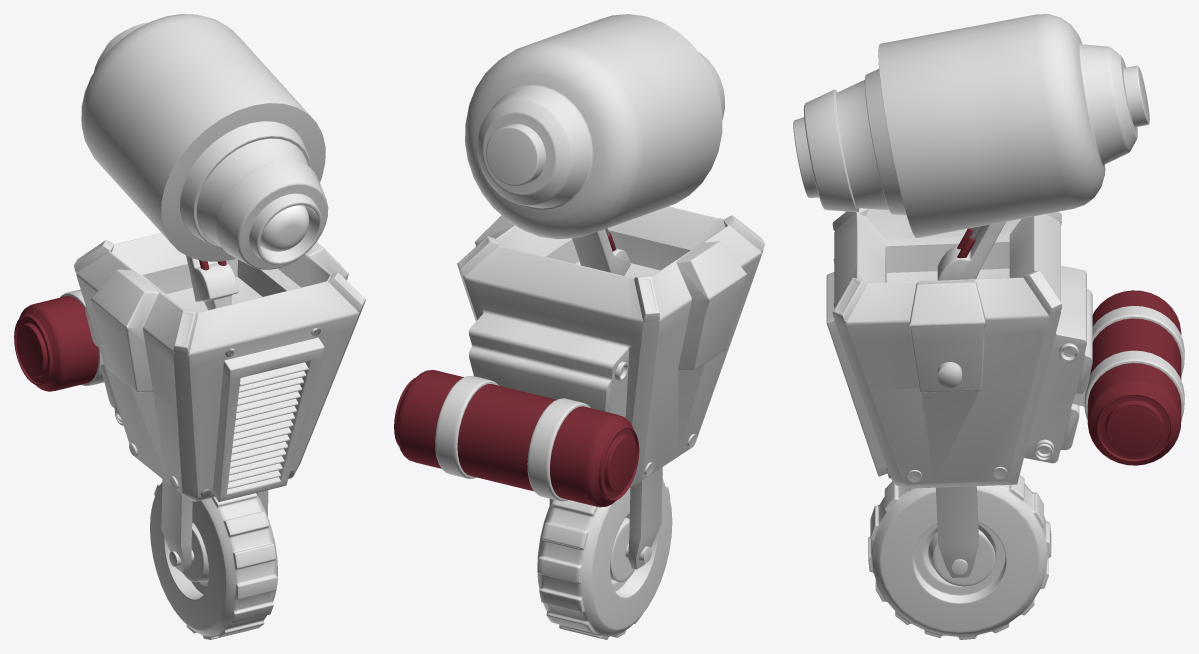
The model's file is Wheel Robot v3.fbx.
3 renders of one model, left to right at view 1: azimuth 30°, elevation 25°; view 2: azimuth 150°, elevation 25°; view 3: azimuth 270°, elevation 25°, orthographic. The views are drawn at different scales.
Visible parts, largest first — view 1: Body, Head, Tire, Gas tAnk, Ventilations, Neck; view 2: Body, Head, Gas tAnk, Tire, Neck; view 3: Body, Head, Tire, Gas tAnk, Neck, Hand_Axel.
Part boxes in pixels (x1,y1,x2,y2): Body: (74,233,365,573); Head: (81,14,328,269); Tire: (150,482,277,639); Gas tAnk: (14,289,104,391); Ventilations: (227,362,308,489); Neck: (186,255,238,310); Body: (457,206,764,569); Head: (465,14,724,239); Gas tAnk: (394,370,639,507); Tire: (537,473,672,639); Neck: (572,228,630,275); Body: (826,208,1092,577); Head: (793,14,1149,238); Tire: (868,475,1051,639); Gas tAnk: (1072,290,1184,465); Neck: (937,221,1005,280); Hand_Axel: (937,362,962,387).
Size of the model in its own units: 54.89 by 137 by 80.08.
